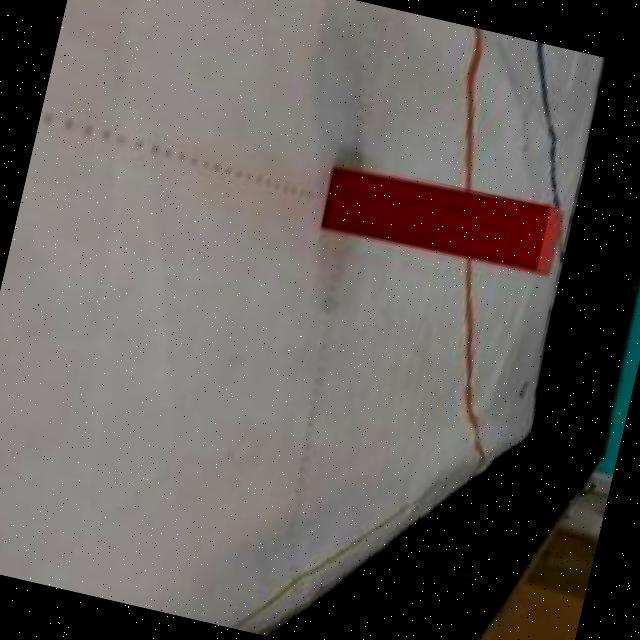redbox: (316, 154, 564, 279)
